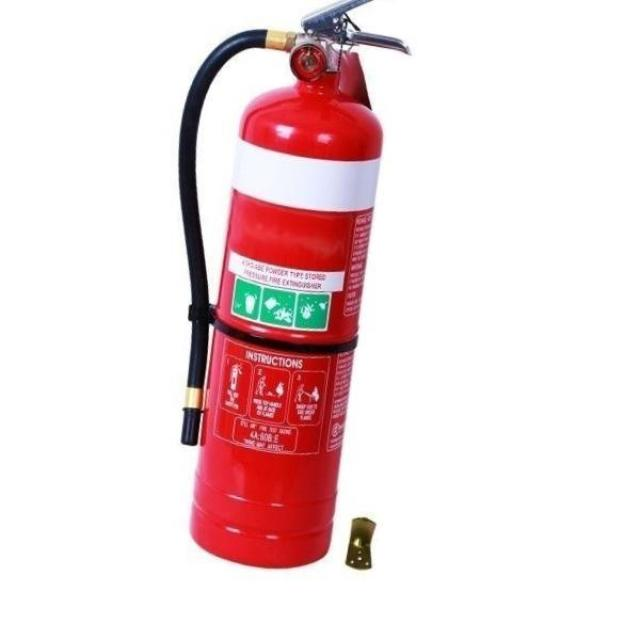fire_extinguisher: (170, 0, 415, 573)
